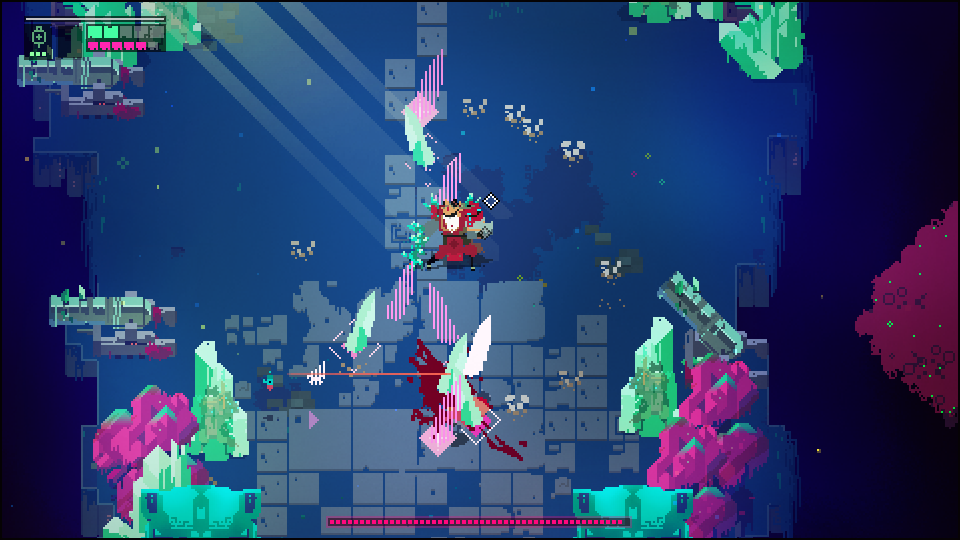hanged_crys: (400, 108, 441, 173), (346, 284, 383, 350), (438, 328, 471, 399), (424, 381, 457, 450), (388, 254, 415, 319), (466, 314, 495, 374)
hanged_man: (402, 193, 492, 269)
